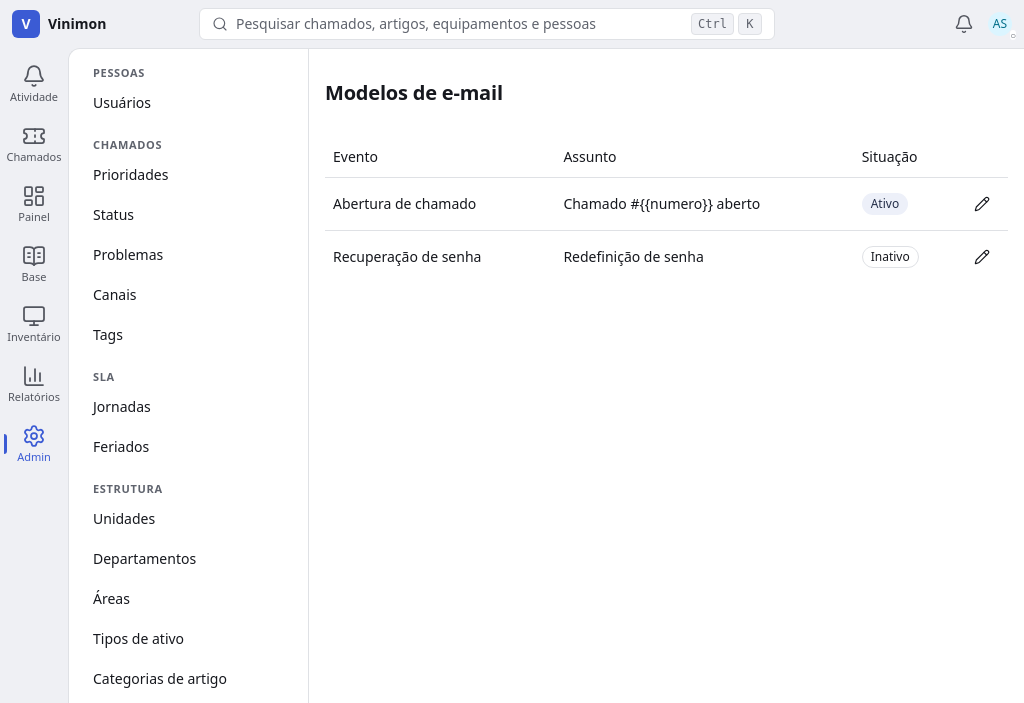
Scenario: /admin/modelos-email › (a) o editor mostra a lista das variáveis do modelo
The width and height of the screenshot is (1024, 703).
Step 1. Click the button named "Editar modelo Abertura de chamado" → (982, 204), box [964,186,1000,222]
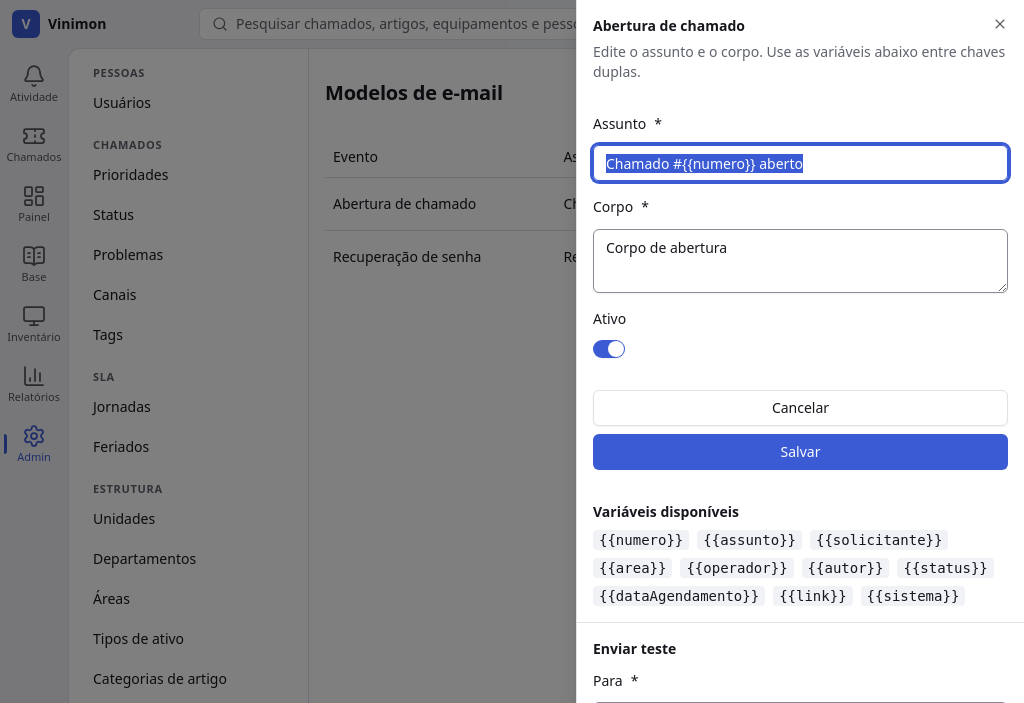
Expected: the heading "Abertura de chamado" is shown, [593,16,745,35]
Expected: the text "{{numero}}" is shown, [593,530,689,550]
Expected: the text "{{assunto}}" is shown, [697,530,802,550]
